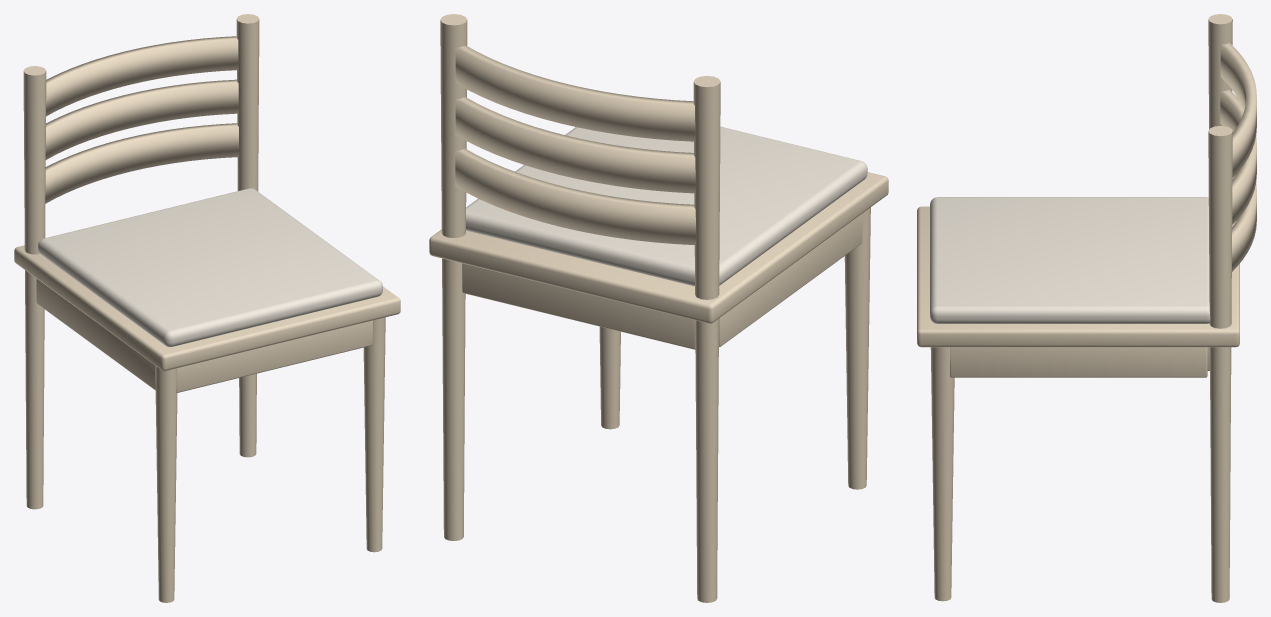
Rendered from mo_dining_chair.glb.
The picture shows the model from 3 angles, left to right: view 1: azimuth 30°, elevation 25°; view 2: azimuth 150°, elevation 25°; view 3: azimuth 270°, elevation 25°; orthographic projection. The views are drawn at different scales.
Visible parts, largest first — view 1: pad, seat, rleg, slat0, slat1, slat2, rleg.001, apron.002, fleg, fleg.001, apron; view 2: pad, seat, rleg, rleg.001, slat0, slat1, slat2, apron.003, fleg, apron, fleg.001; view 3: pad, rleg.001, seat, apron.001, fleg.001, slat2, slat1, rleg, slat0.
Part boxes in pixels (left/top/right/bottom): pad: left=38, top=188, right=382, bottom=347; seat: left=14, top=245, right=400, bottom=370; rleg: left=23, top=66, right=46, bottom=509; slat0: left=45, top=123, right=239, bottom=203; slat1: left=45, top=79, right=238, bottom=159; slat2: left=46, top=36, right=238, bottom=116; rleg.001: left=236, top=14, right=259, bottom=457; apron.002: left=176, top=320, right=372, bottom=392; fleg: left=155, top=365, right=177, bottom=602; fleg.001: left=363, top=317, right=385, bottom=552; apron: left=36, top=278, right=155, bottom=390; pad: left=466, top=126, right=867, bottom=286; seat: left=429, top=172, right=888, bottom=323; rleg: left=693, top=76, right=720, bottom=602; rleg.001: left=440, top=14, right=467, bottom=540; slat0: left=455, top=148, right=695, bottom=245; slat1: left=455, top=97, right=695, bottom=193; slat2: left=455, top=45, right=695, bottom=141; apron.003: left=462, top=263, right=695, bottom=349; fleg: left=844, top=207, right=870, bottom=489; apron: left=719, top=214, right=862, bottom=346; fleg.001: left=599, top=326, right=620, bottom=429; pad: left=930, top=197, right=1210, bottom=323; rleg.001: left=1208, top=126, right=1232, bottom=602; seat: left=917, top=206, right=1239, bottom=347; apron.001: left=950, top=347, right=1207, bottom=377; fleg.001: left=930, top=347, right=954, bottom=601; slat2: left=1220, top=43, right=1256, bottom=177; slat1: left=1220, top=89, right=1256, bottom=224; rleg: left=1208, top=14, right=1232, bottom=129; slat0: left=1232, top=174, right=1256, bottom=271.
Size of the model in its own units: 0.46 by 0.8 by 0.5262.
